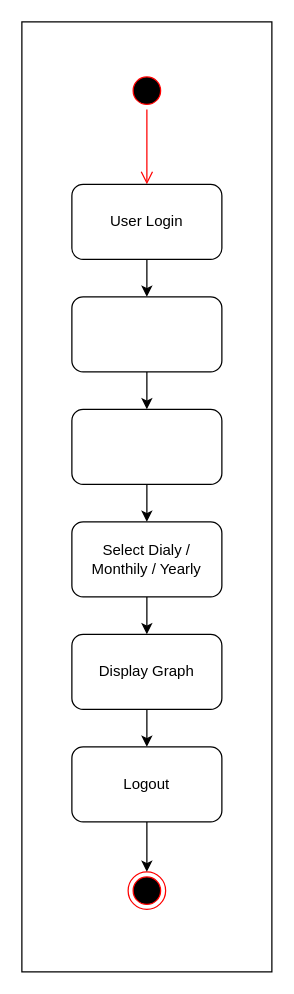
Image size: 294x994. Some labels were removed from this diagram. Here are the shapes that lost their labels. From the top down, the centre of each, then its label:
(146,334): User Dashboard
(146,446): Select Water Quality Monitoring
